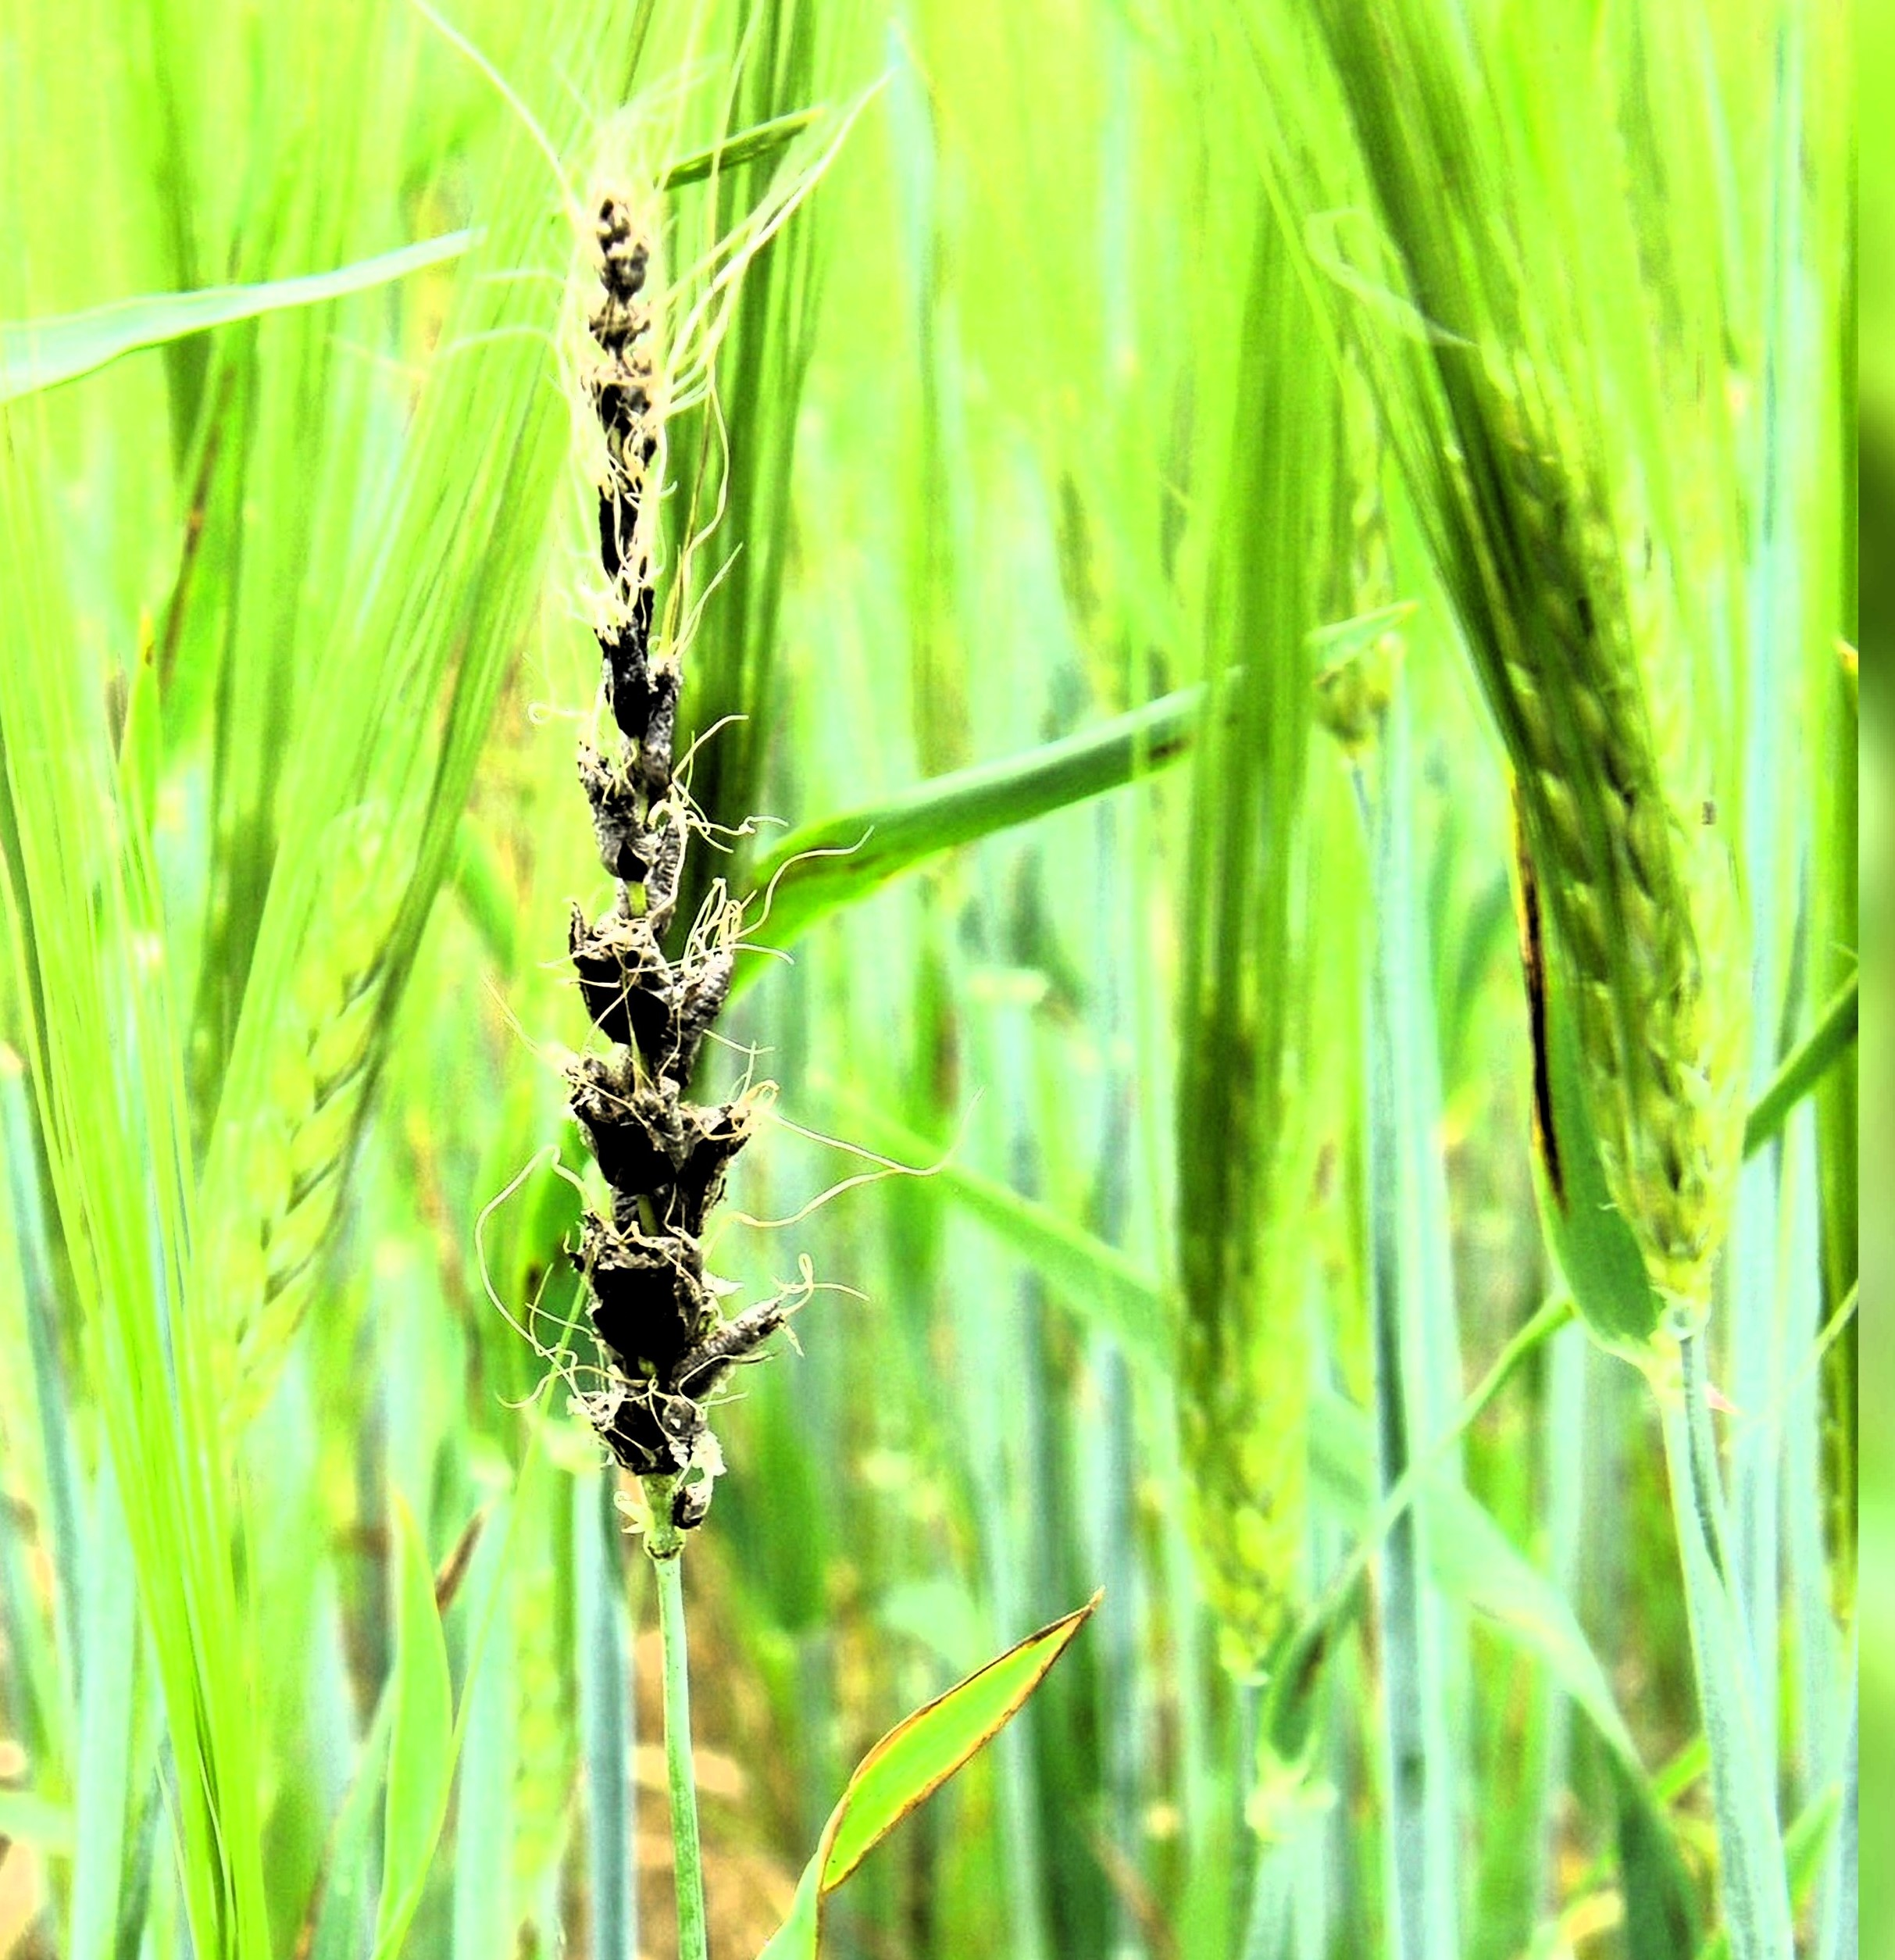Wheat Loose Smut: (486, 236, 833, 1517)
